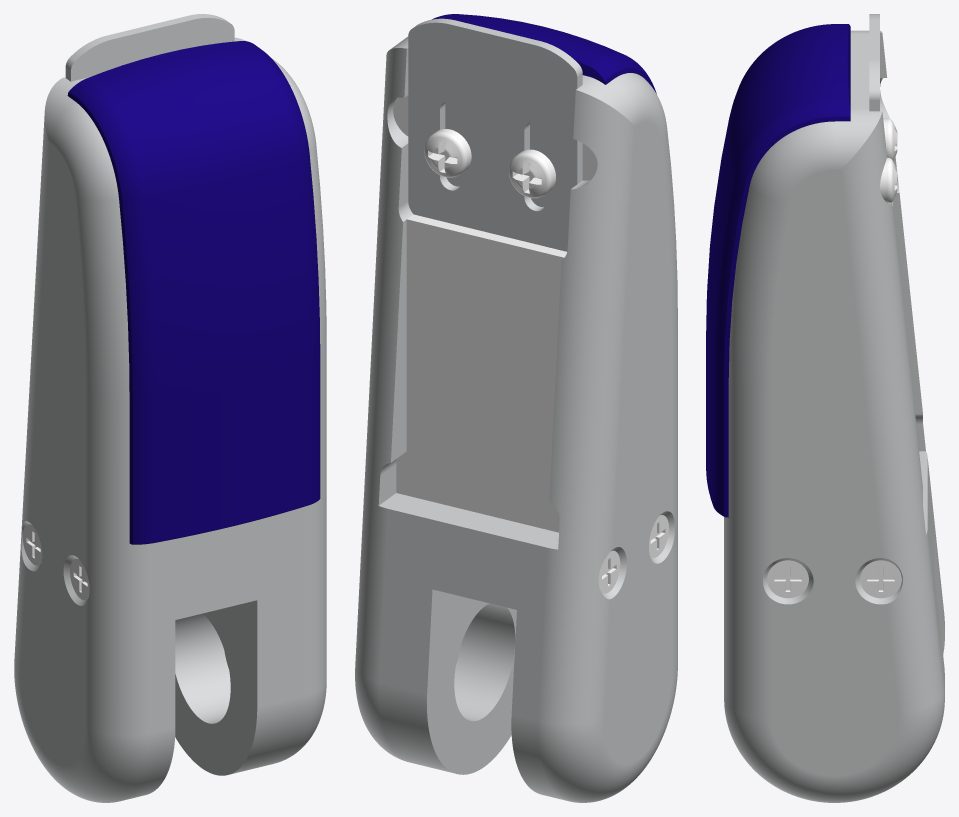
File: finger_distal.gltf
3 views of the same model, side by side, from view 1: azimuth 30°, elevation 25°; view 2: azimuth 150°, elevation 25°; view 3: azimuth 270°, elevation 25° (orthographic). The views are drawn at different scales.
Parts seen in each view (by area): view 1: B4160; view 2: B4160; view 3: B4160.
Boxes of the visible parts, <box> form: B4160: <box>14,14,326,802</box>; B4160: <box>355,14,677,802</box>; B4160: <box>706,14,944,802</box>.
Size of the model in its own units: 0.023 by 0.0685 by 0.0205.
